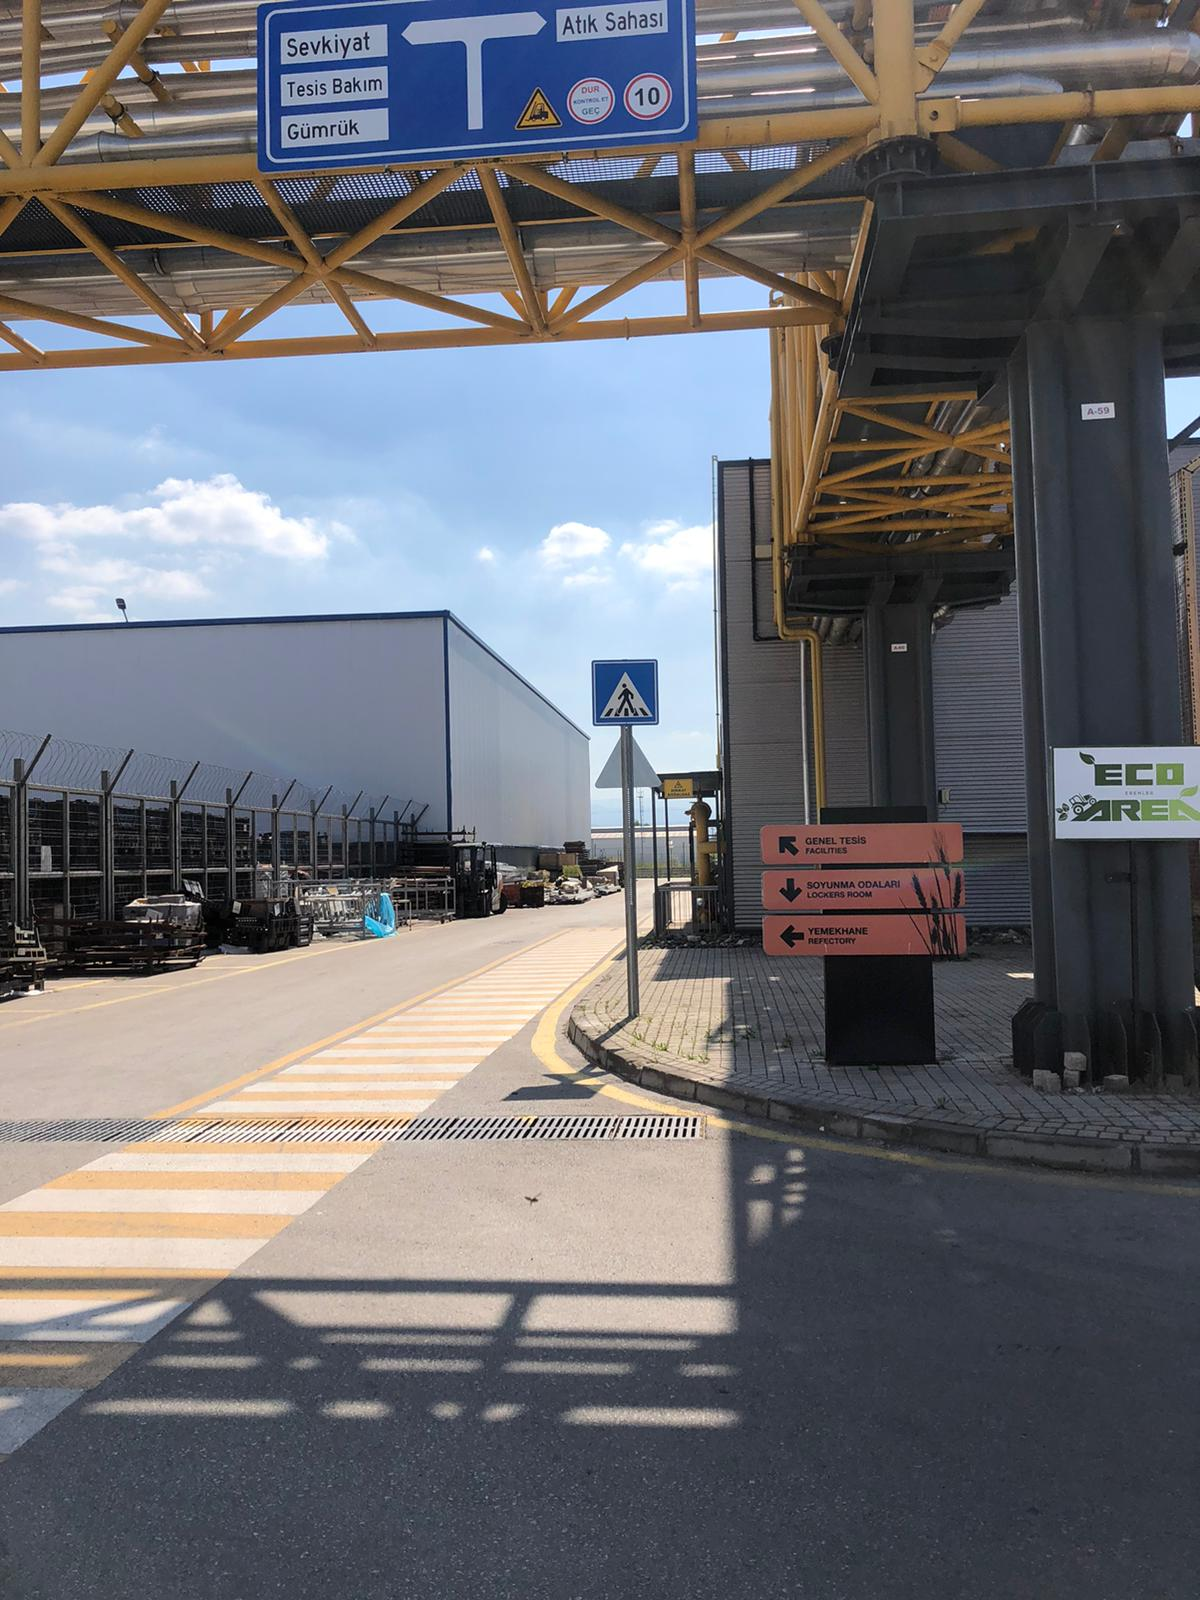Yaya Gecidi: (595, 663, 657, 727)
